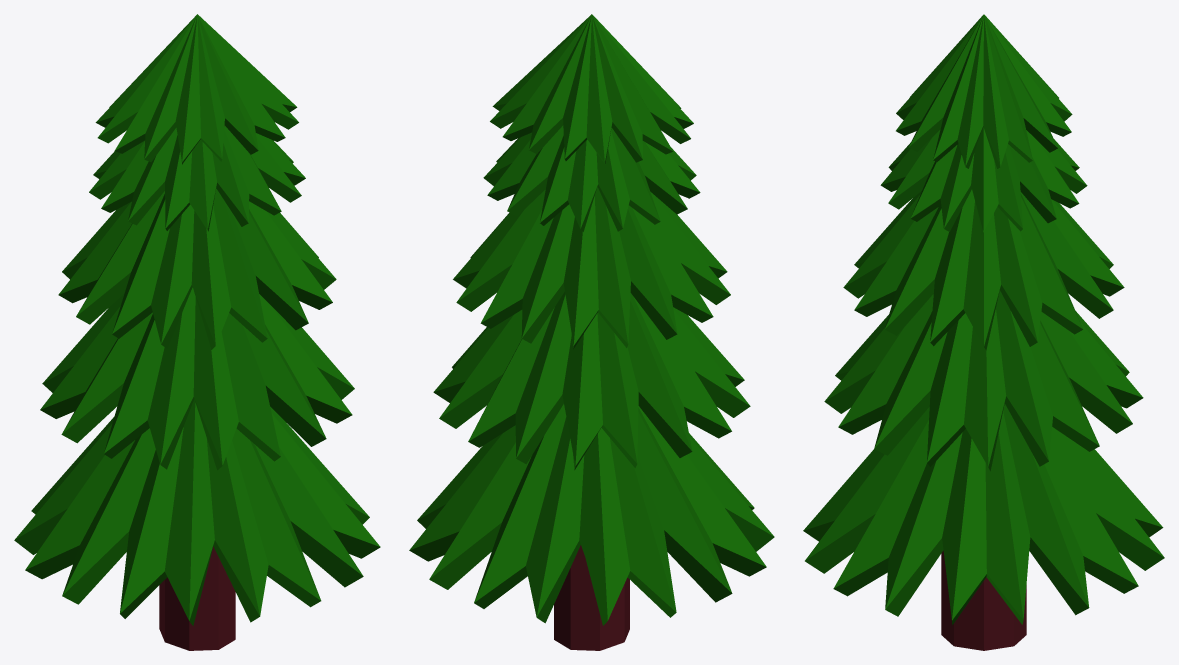
File: Elka link.fbx
3 renders of one model, left to right at view 1: azimuth 30°, elevation 25°; view 2: azimuth 150°, elevation 25°; view 3: azimuth 270°, elevation 25°, orthographic.
Parts seen in each view (by area): view 1: Cylinder; view 2: Cylinder; view 3: Cylinder.
Part boxes in pixels (<box>): Cylinder: <box>14,14,380,650</box>; Cylinder: <box>409,14,774,650</box>; Cylinder: <box>803,14,1164,650</box>.
Bounding box in the file's own units: 360 × 682 × 360.
